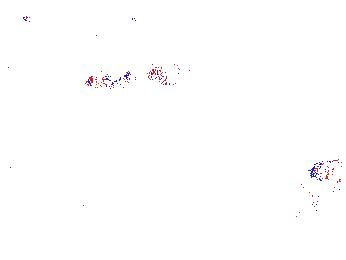X-ray fish: (265, 182, 319, 216), (302, 158, 345, 184), (146, 61, 190, 84)
glassfish: (275, 183, 346, 220)
red belly glassfish: (81, 70, 130, 88)
